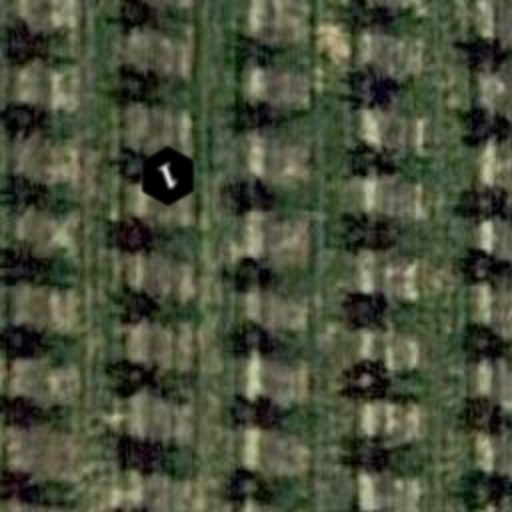hexagon: (124, 132, 212, 220)
